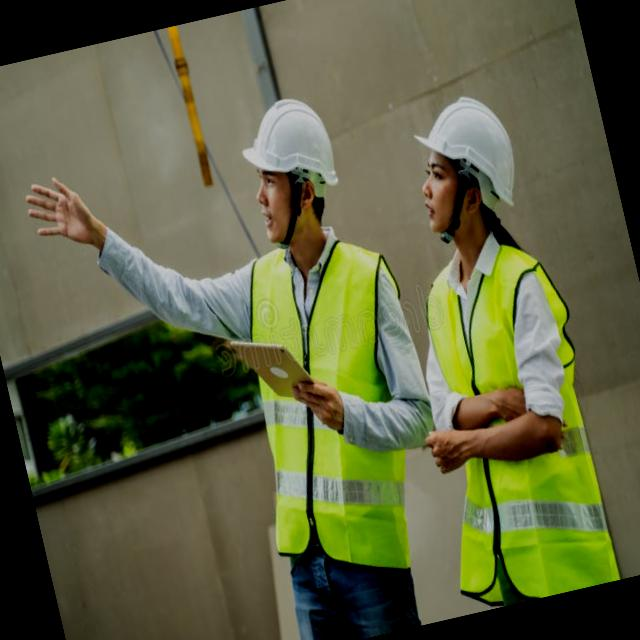helmet: (388, 60, 551, 223), (220, 72, 364, 202)
vest: (367, 212, 640, 618), (184, 209, 458, 582)
